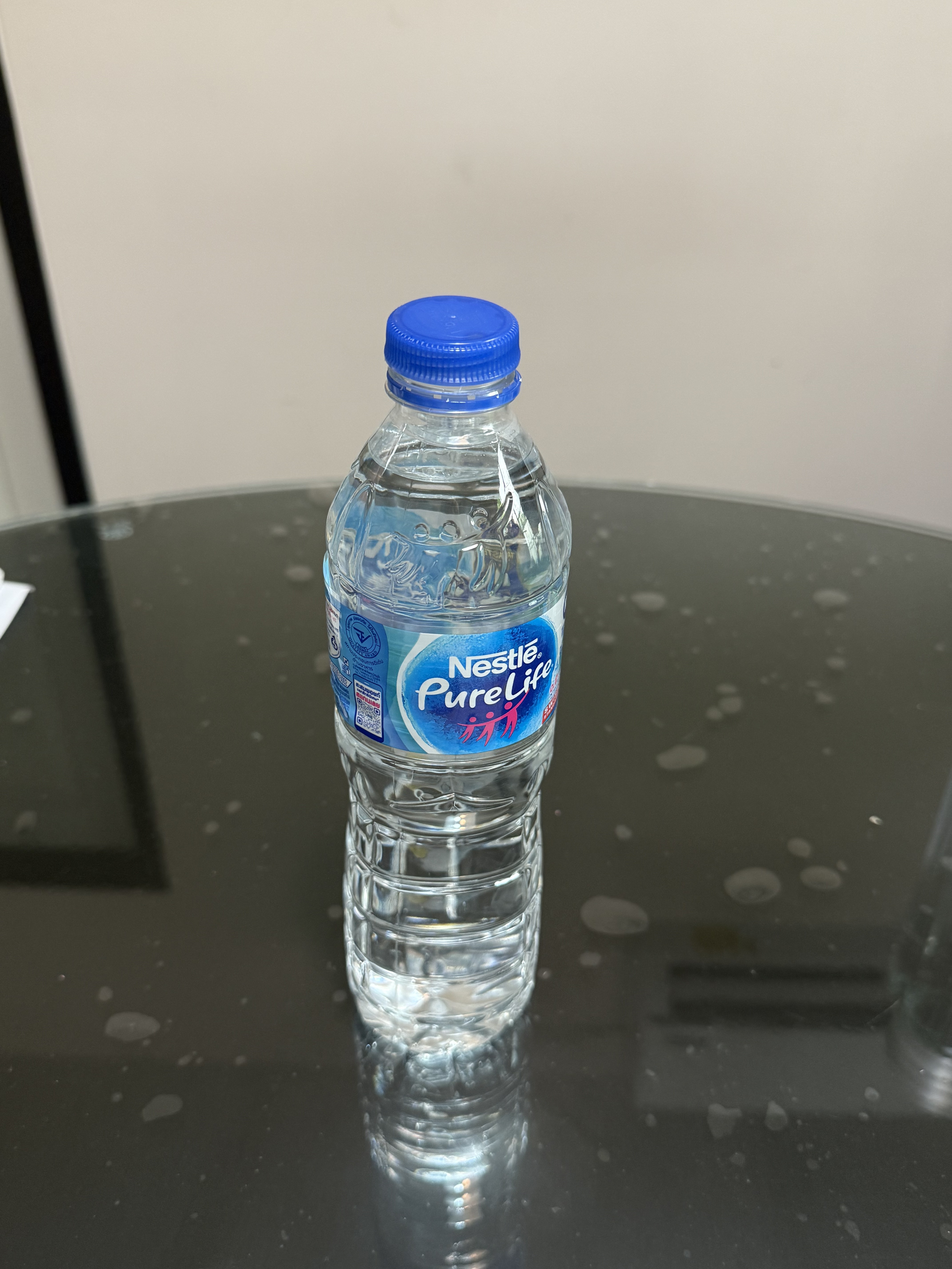half_cap: (380, 291, 524, 410)
